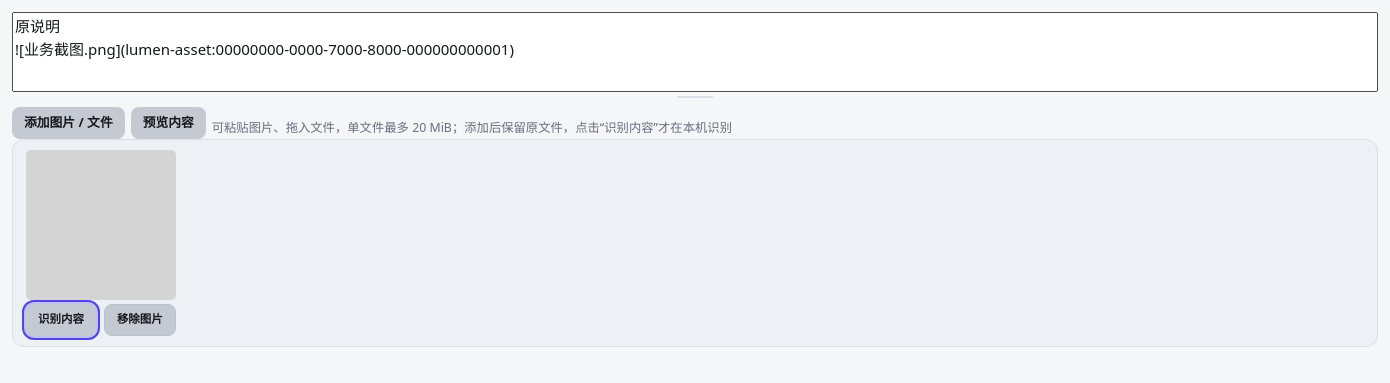
Scenario: 识别失败明确提示并保留已导入文件链接，不伪装成识别成功
Click the button "识别内容" at (61,320), box [26,304,96,336]
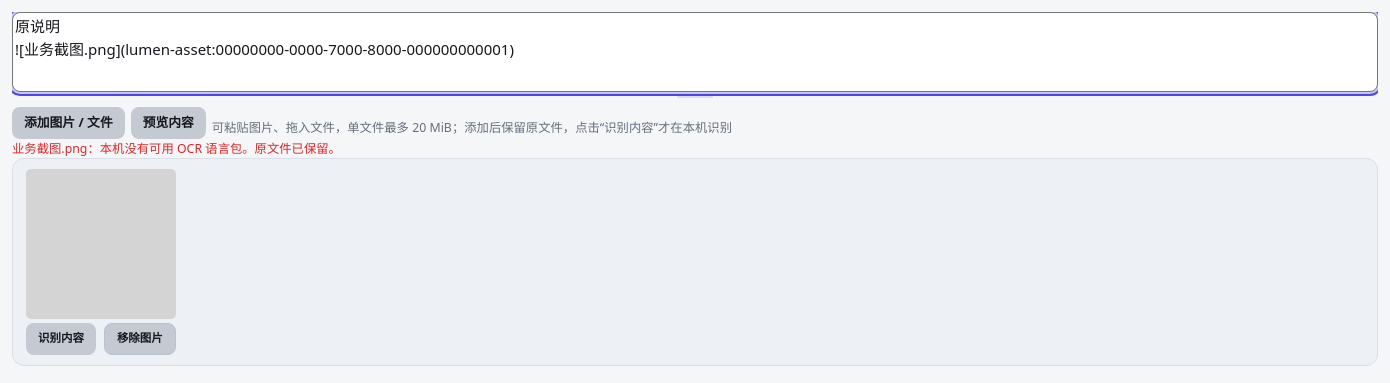
Now the message "业务截图.png：本机没有可用 OCR 语言包。原文件已保留。" is shown, box [12,140,341,157]
